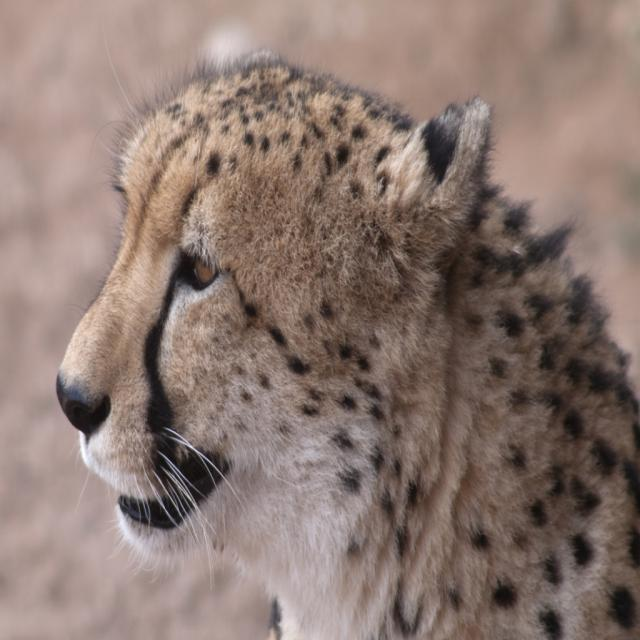Cheetah: (56, 35, 640, 640)
